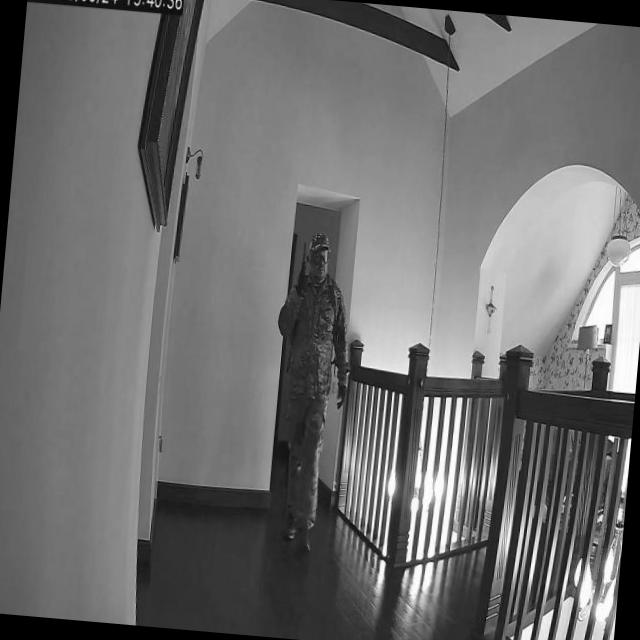gun: (296, 238, 310, 282)
person with a gun: (260, 226, 360, 554)
